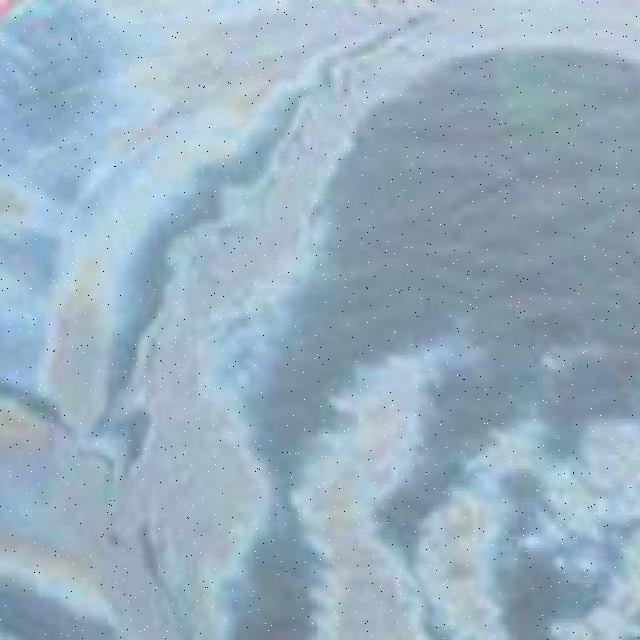oil: (7, 87, 309, 640), (312, 335, 639, 640), (0, 0, 639, 79)
